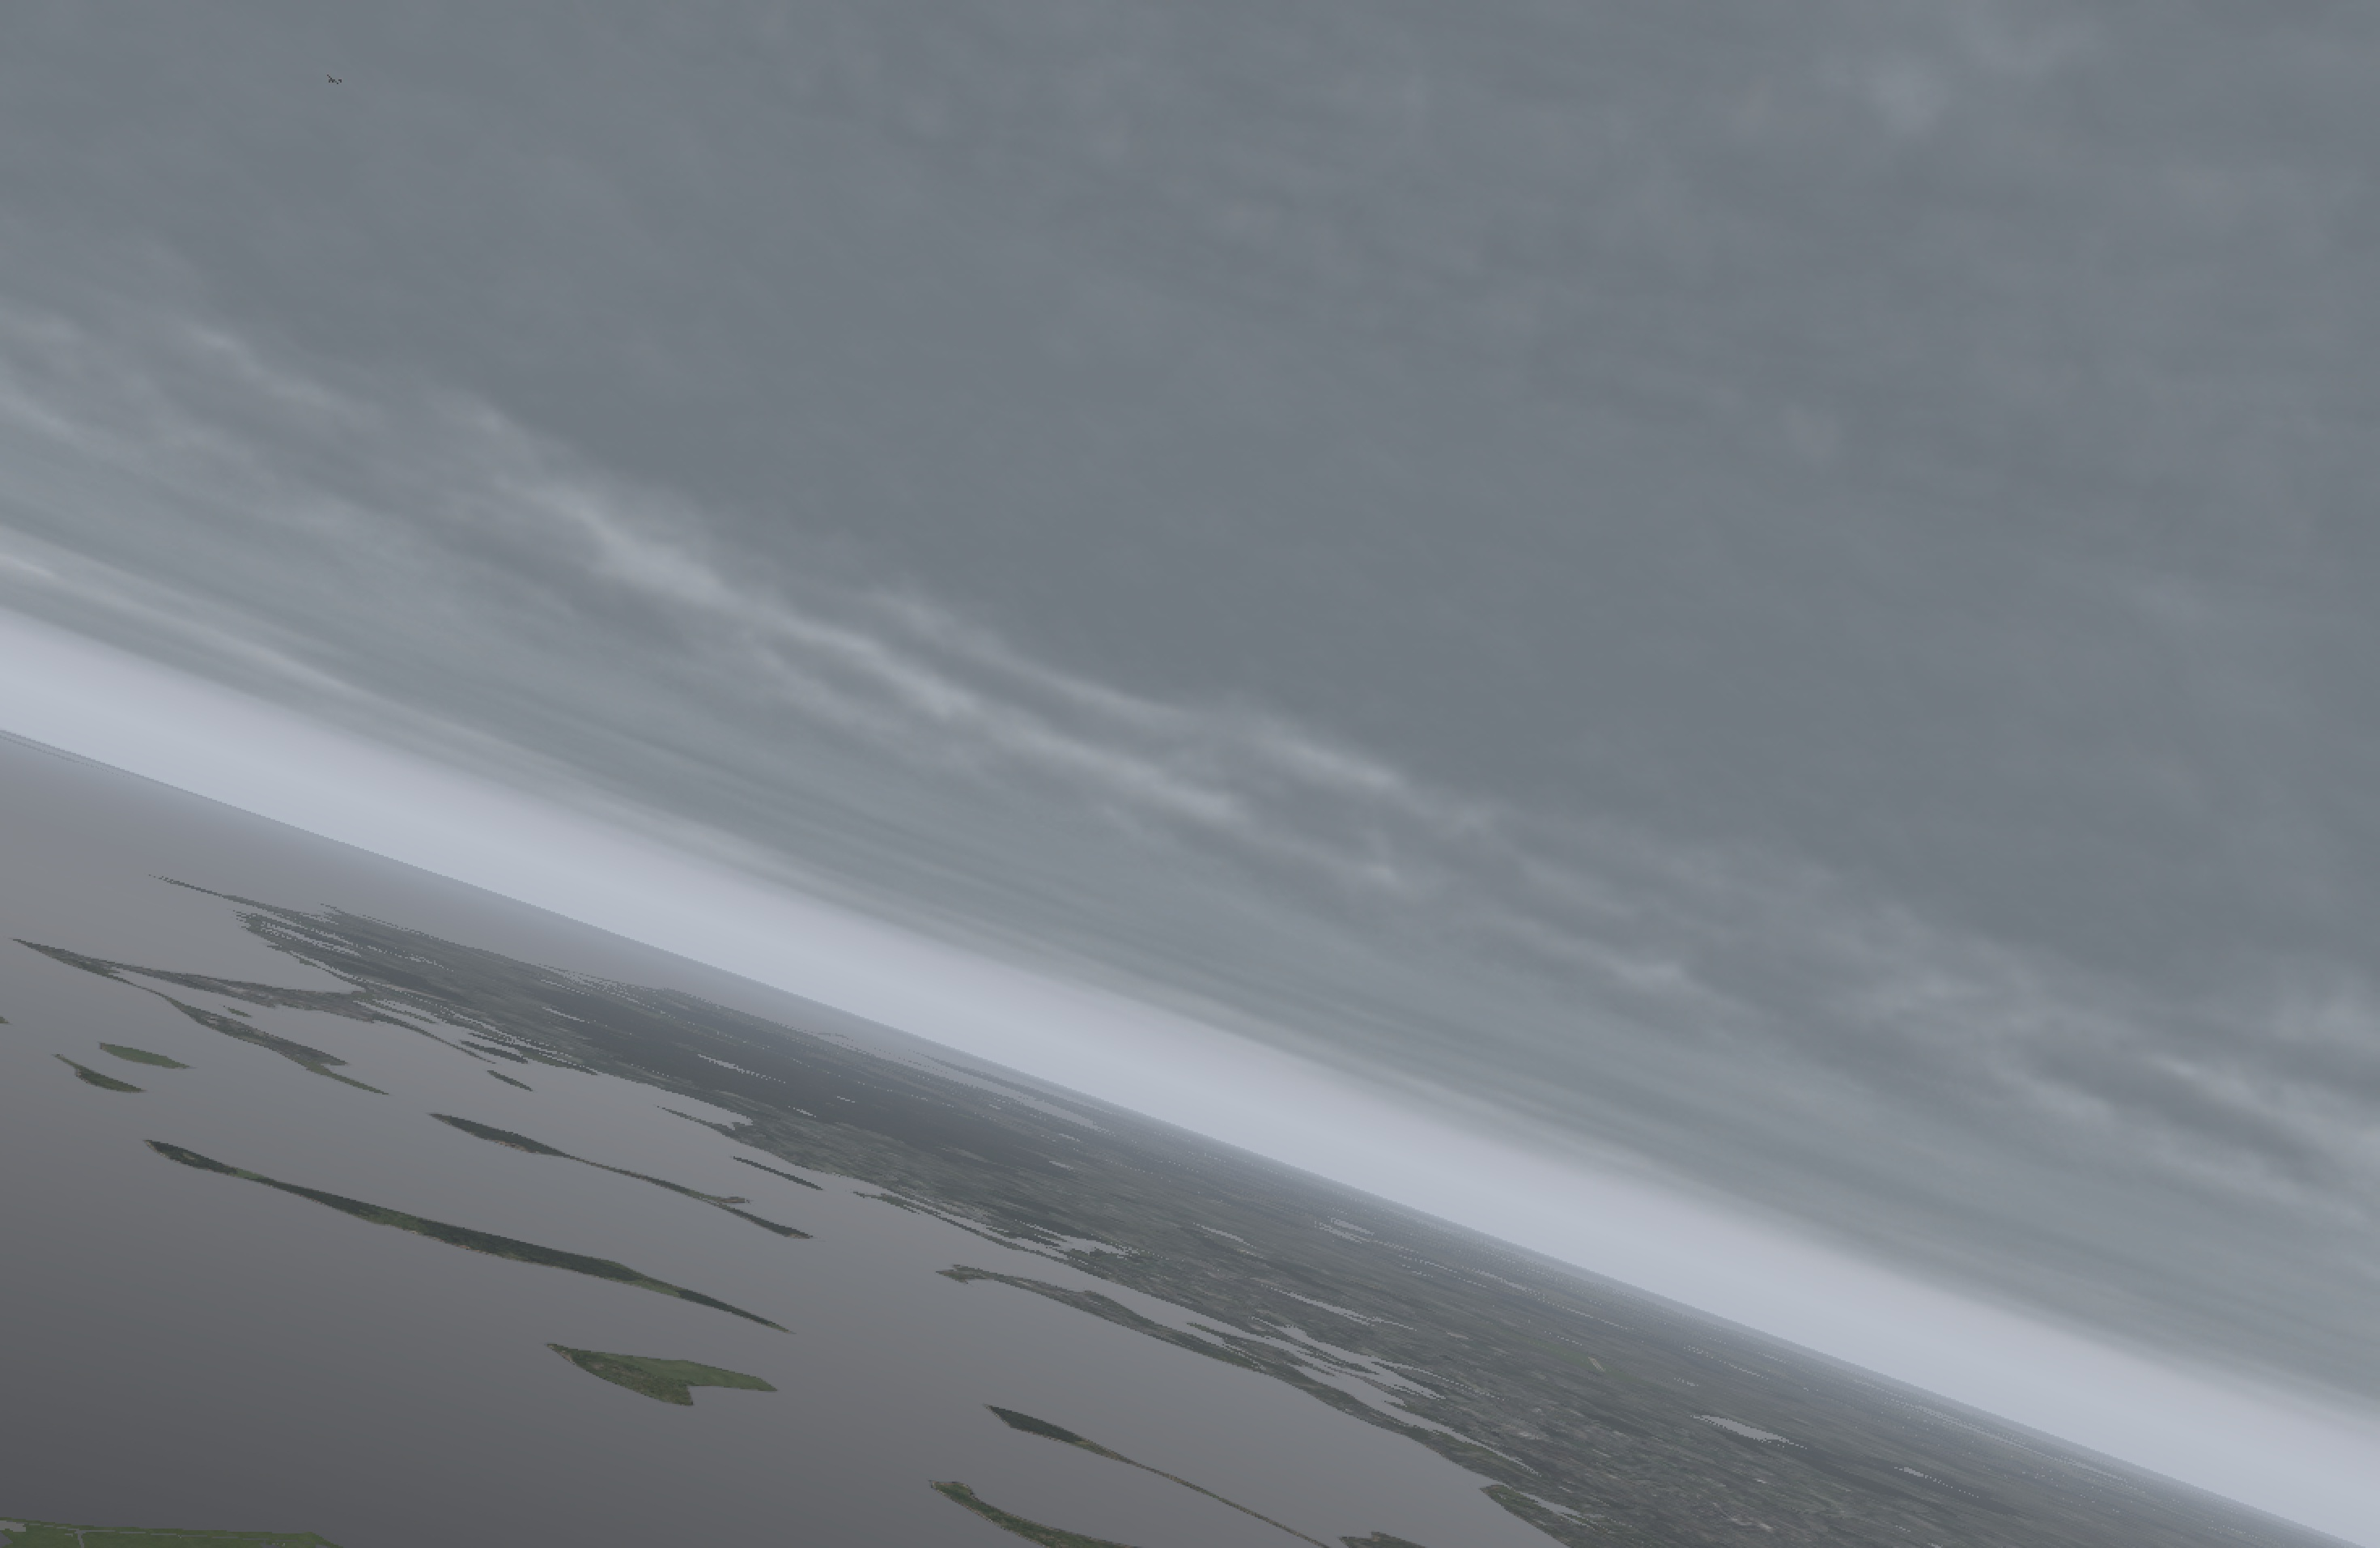aircraft: (326, 78, 338, 83)
